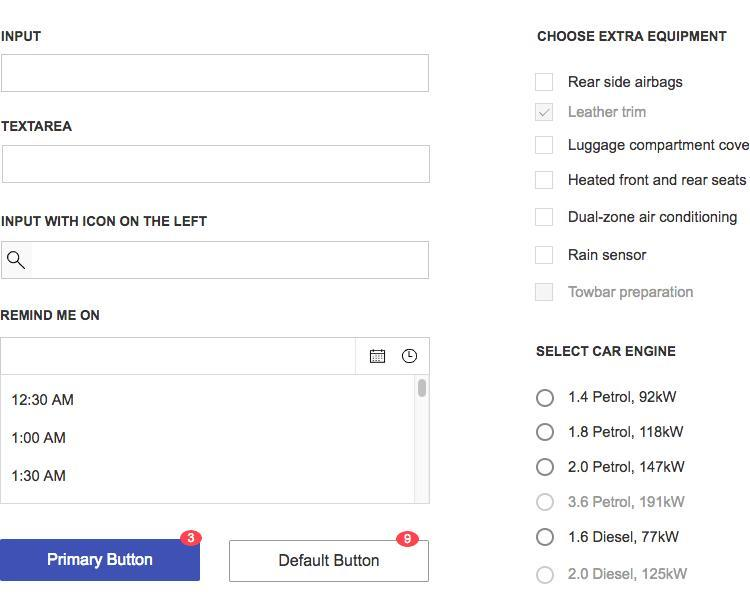button: (231, 542, 431, 583), (1, 541, 201, 581)
checkbox: (536, 74, 554, 92), (536, 284, 554, 302), (535, 210, 554, 227), (536, 105, 554, 122), (536, 138, 554, 155), (536, 248, 554, 265), (537, 173, 554, 189)
icon: (370, 349, 387, 366), (403, 349, 419, 365)
input: (1, 53, 431, 94), (4, 146, 430, 184), (1, 242, 429, 279)
label: (536, 26, 734, 51), (1, 212, 216, 232), (570, 135, 750, 156), (536, 340, 683, 363), (568, 210, 739, 229), (567, 387, 681, 411), (568, 173, 749, 188), (567, 565, 689, 584), (567, 423, 687, 442), (1, 305, 107, 326), (566, 459, 689, 477), (568, 286, 695, 303), (568, 495, 687, 512), (1, 111, 86, 134), (568, 529, 683, 546), (570, 77, 685, 92), (568, 102, 649, 123), (567, 249, 651, 263), (1, 28, 49, 46)
radio: (535, 458, 555, 478), (536, 528, 556, 548), (536, 424, 556, 443), (537, 493, 556, 513), (536, 390, 555, 409), (537, 567, 555, 586)
